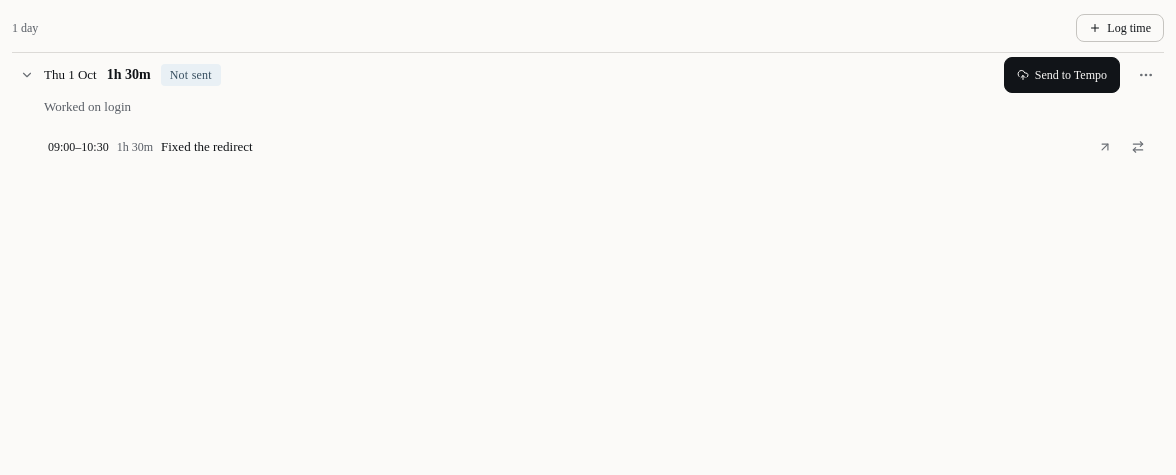
Test: log confirmation › highlights the new row, scrolls it into view and keeps a Logged strip
Click the button "Log time" at (1120, 28), box [1076,14,1164,42]
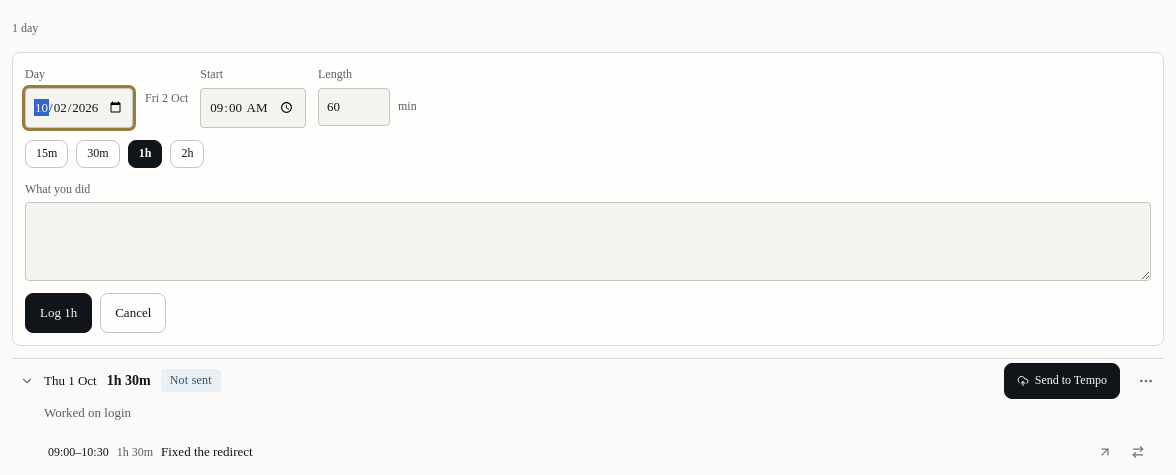
Type "New entry" into the text box labelled "What you did" at (588, 242), box [25,202,1151,281]
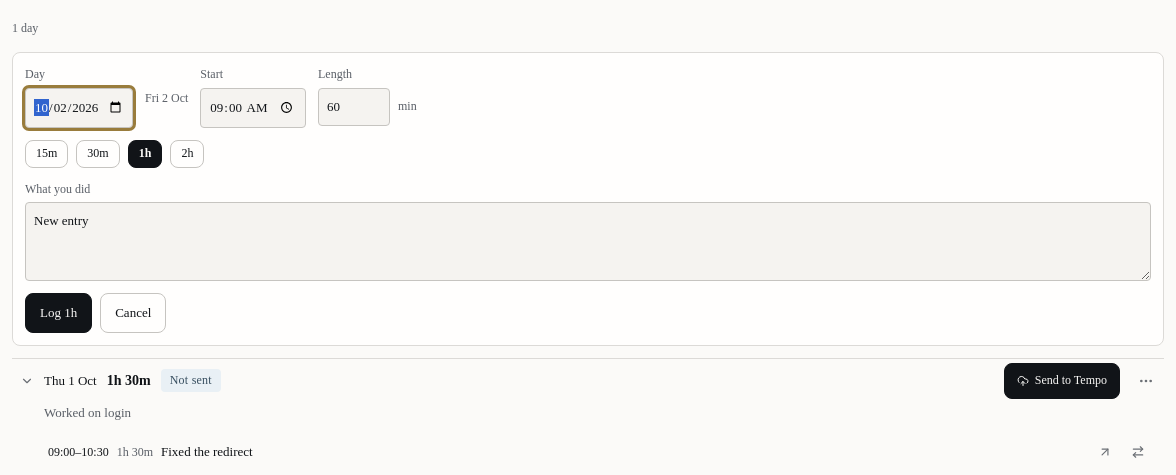
Click the button "Log 1h" at (59, 313), box [25,293,92,333]
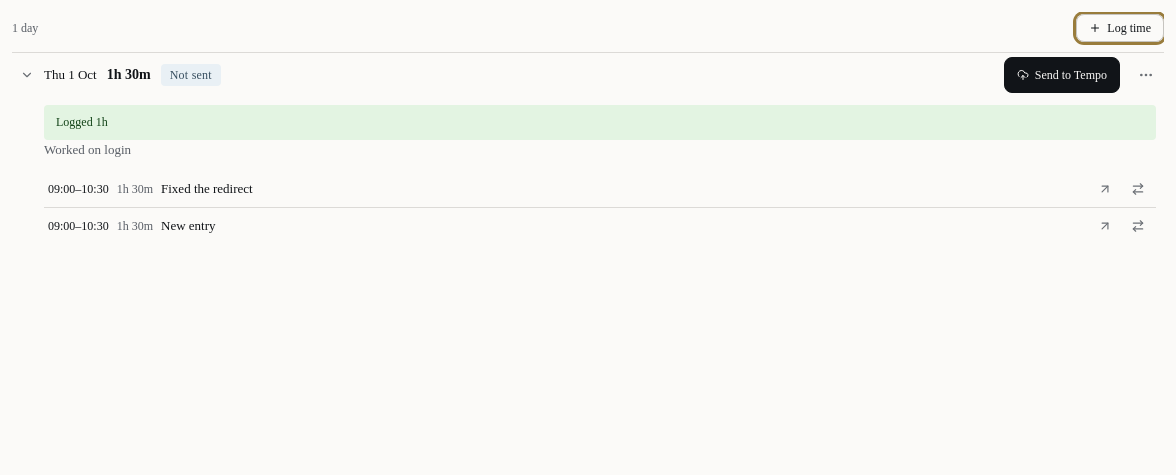
Expected: the link "09:00–10:30 1h 30m New entry" is shown, [44,208,1116,244]
